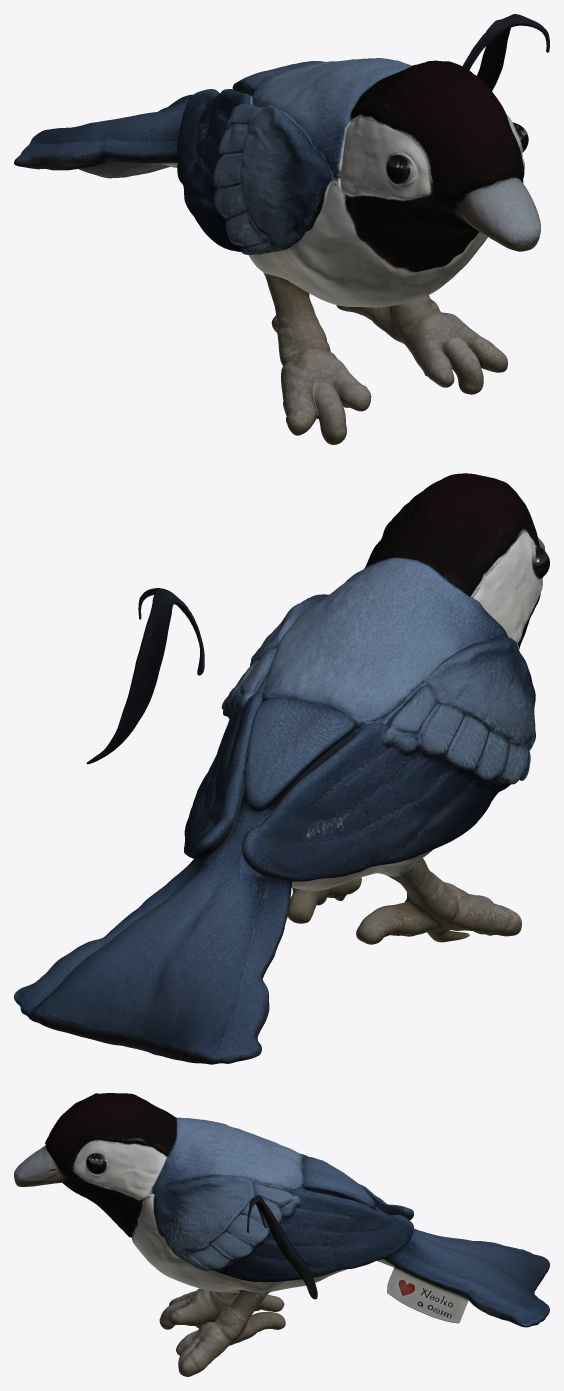
File: peluche_pequeño_de_urraca_de_cola_blanca.glb
3 views of the same model, one above another, from view 1: azimuth 30°, elevation 25°; view 2: azimuth 150°, elevation 25°; view 3: azimuth 270°, elevation 25° (orthographic). The views are drawn at different scales.
Parts seen in each view (by area): view 1: tripo_node_72c04268-42fa-4b9c-9533-fd62ab42e16e; view 2: tripo_node_72c04268-42fa-4b9c-9533-fd62ab42e16e; view 3: tripo_node_72c04268-42fa-4b9c-9533-fd62ab42e16e.
Boxes of the visible parts, x1,y1,x2,y2 form: tripo_node_72c04268-42fa-4b9c-9533-fd62ab42e16e: (14, 14, 549, 444); tripo_node_72c04268-42fa-4b9c-9533-fd62ab42e16e: (14, 473, 549, 1064); tripo_node_72c04268-42fa-4b9c-9533-fd62ab42e16e: (14, 1093, 549, 1376).
Size of the model in its own units: 15885 by 17118 by 32767.
1 material, 1 textured.
